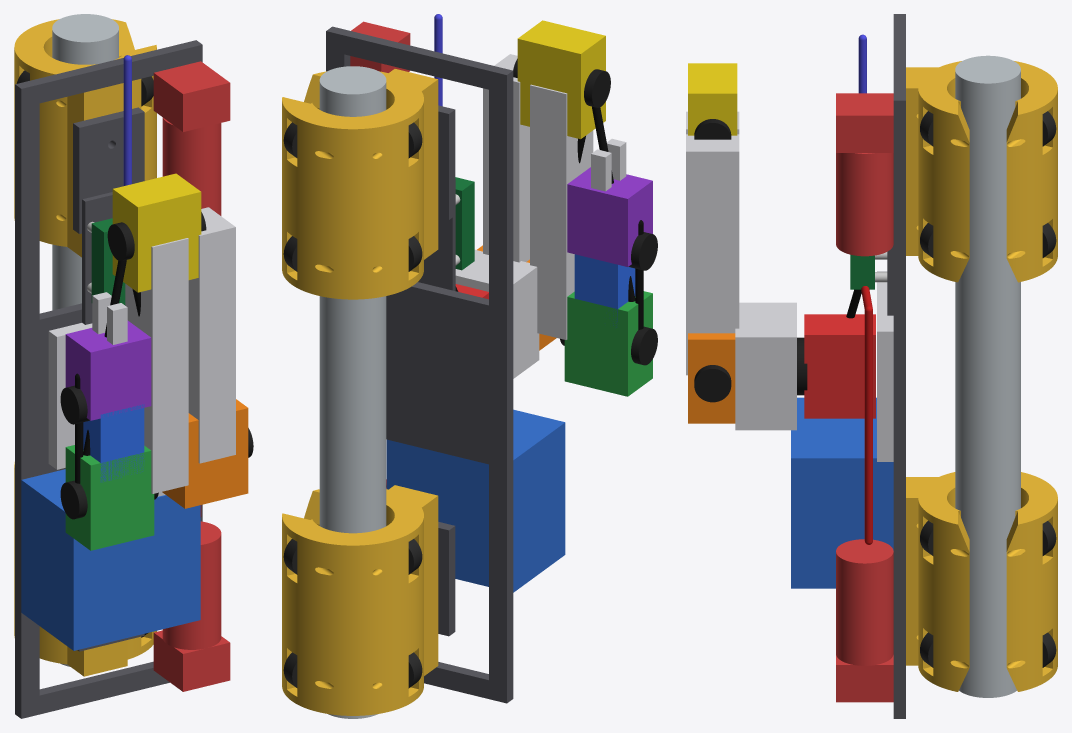
The model's file is cart-arm-stowed-v1.glb.
3 views of the same model, side by side, from view 1: azimuth 30°, elevation 25°; view 2: azimuth 150°, elevation 25°; view 3: azimuth 270°, elevation 25° (orthographic).
Parts seen in each view (by area): view 1: base_plate, battery, drive_motors, hand_A_sleeve, arm_stowed_forearm, arm_stowed_upper_arm, arm_stowed_servo_D_wrist_flex, arm_stowed_servo_C_elbow, arm_stowed_servo_F_gripper, track_pipe, arm_stowed_servo_B_shoulder, arm_stowed_servo_E_wrist_roll (+12 smaller); view 2: base_plate, hand_A_sleeve, hand_B_sleeve, track_pipe, battery, arm_stowed_forearm, arm_stowed_servo_D_wrist_flex, arm_stowed_servo_C_elbow, arm_stowed_servo_F_gripper, arm_stowed_upper_arm, arm_stowed_shoulder_bracket, arm_stowed_servo_E_wrist_roll (+11 smaller); view 3: track_pipe, hand_A_sleeve, hand_B_sleeve, drive_motors, battery, arm_stowed_upper_arm, base_plate, arm_stowed_shoulder_bracket, arm_stowed_servo_A_base, arm_stowed_servo_B_shoulder, arm_stowed_servo_C_elbow, arm_stowed_base_plate (+6 smaller).
Part boxes in pixels (bbox=[...]): base_plate: bbox=[15, 40, 202, 718]; battery: bbox=[21, 469, 200, 650]; drive_motors: bbox=[153, 61, 230, 691]; hand_A_sleeve: bbox=[14, 19, 156, 257]; arm_stowed_forearm: bbox=[125, 238, 188, 493]; arm_stowed_upper_arm: bbox=[188, 207, 235, 463]; arm_stowed_servo_D_wrist_flex: bbox=[65, 445, 154, 550]; arm_stowed_servo_C_elbow: bbox=[112, 173, 201, 292]; arm_stowed_servo_F_gripper: bbox=[65, 320, 151, 420]; track_pipe: bbox=[52, 14, 118, 666]; arm_stowed_servo_B_shoulder: bbox=[162, 399, 248, 508]; arm_stowed_servo_E_wrist_roll: bbox=[83, 404, 144, 482]; base_plate: bbox=[326, 26, 513, 703]; hand_A_sleeve: bbox=[282, 69, 438, 299]; hand_B_sleeve: bbox=[282, 485, 438, 715]; track_pipe: bbox=[319, 66, 386, 718]; battery: bbox=[386, 409, 565, 592]; arm_stowed_forearm: bbox=[530, 84, 593, 339]; arm_stowed_servo_D_wrist_flex: bbox=[564, 291, 652, 396]; arm_stowed_servo_C_elbow: bbox=[517, 20, 605, 139]; arm_stowed_servo_F_gripper: bbox=[567, 167, 652, 266]; arm_stowed_upper_arm: bbox=[483, 54, 529, 262]; arm_stowed_shoulder_bracket: bbox=[455, 249, 539, 378]; arm_stowed_servo_E_wrist_roll: bbox=[574, 254, 635, 327]; track_pipe: bbox=[955, 55, 1020, 697]; hand_A_sleeve: bbox=[906, 61, 1057, 282]; hand_B_sleeve: bbox=[906, 472, 1057, 691]; drive_motors: bbox=[836, 93, 893, 702]; battery: bbox=[791, 397, 893, 588]; arm_stowed_upper_arm: bbox=[686, 134, 739, 375]; base_plate: bbox=[893, 14, 905, 718]; arm_stowed_shoulder_bracket: bbox=[735, 302, 796, 430]; arm_stowed_servo_A_base: bbox=[804, 314, 875, 418]; arm_stowed_servo_B_shoulder: bbox=[688, 333, 735, 423]; arm_stowed_servo_C_elbow: bbox=[688, 63, 737, 135]; arm_stowed_base_plate: bbox=[877, 271, 893, 461].
Size of the model in its own units: 124 by 344 by 181.
